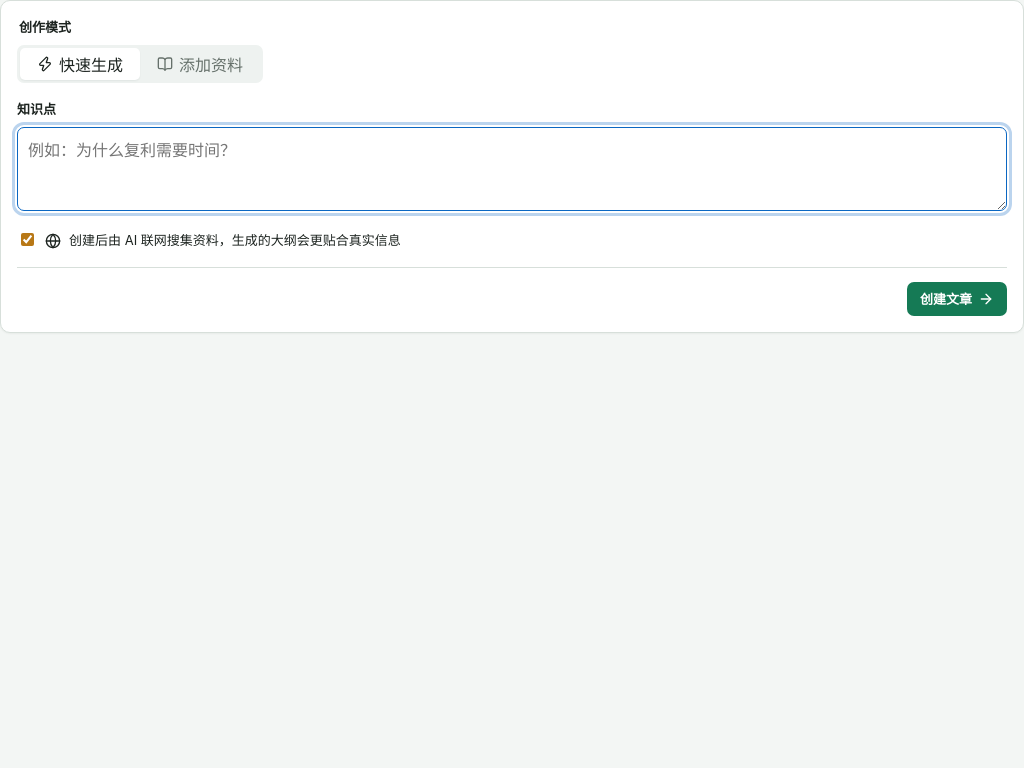
Test case: NewArticleForm › does not create the article when source mode is incomplete
Click the button "添加资料" at (200, 64), box [140, 48, 260, 80]
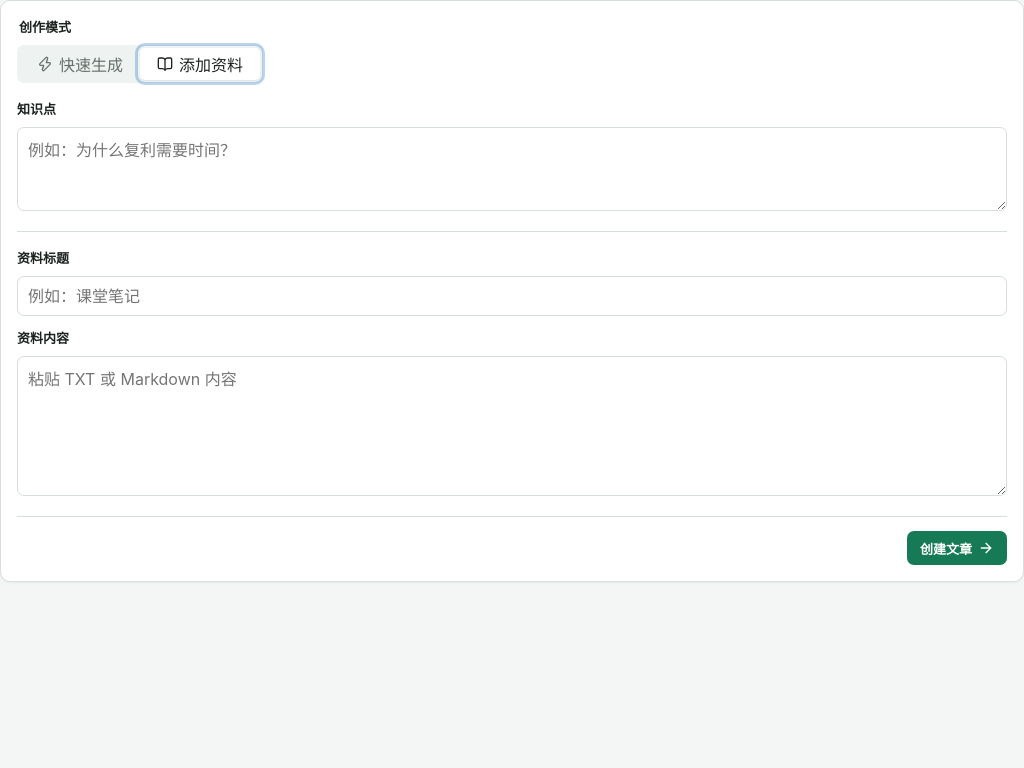
Type "复利" into the text box labelled "知识点" at (512, 169), box [17, 127, 1007, 211]
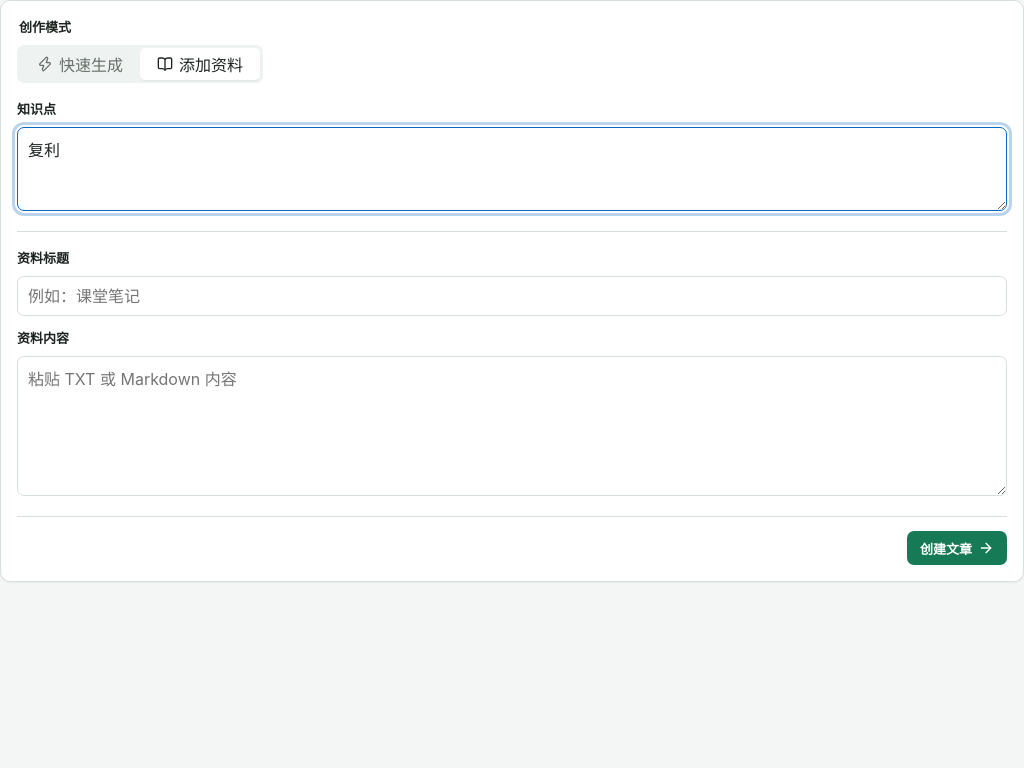
Type "课堂笔记" into the field labelled "资料标题" at (512, 296), box [17, 276, 1007, 316]
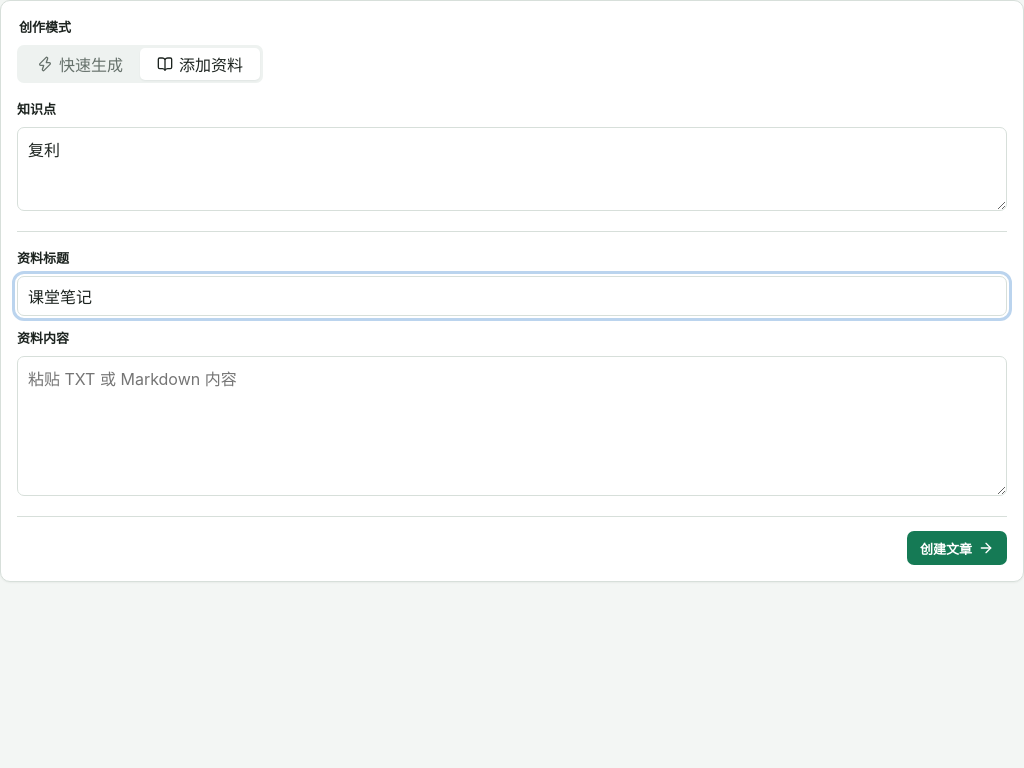
Click the button "创建文章" at (957, 548), box [907, 531, 1007, 565]
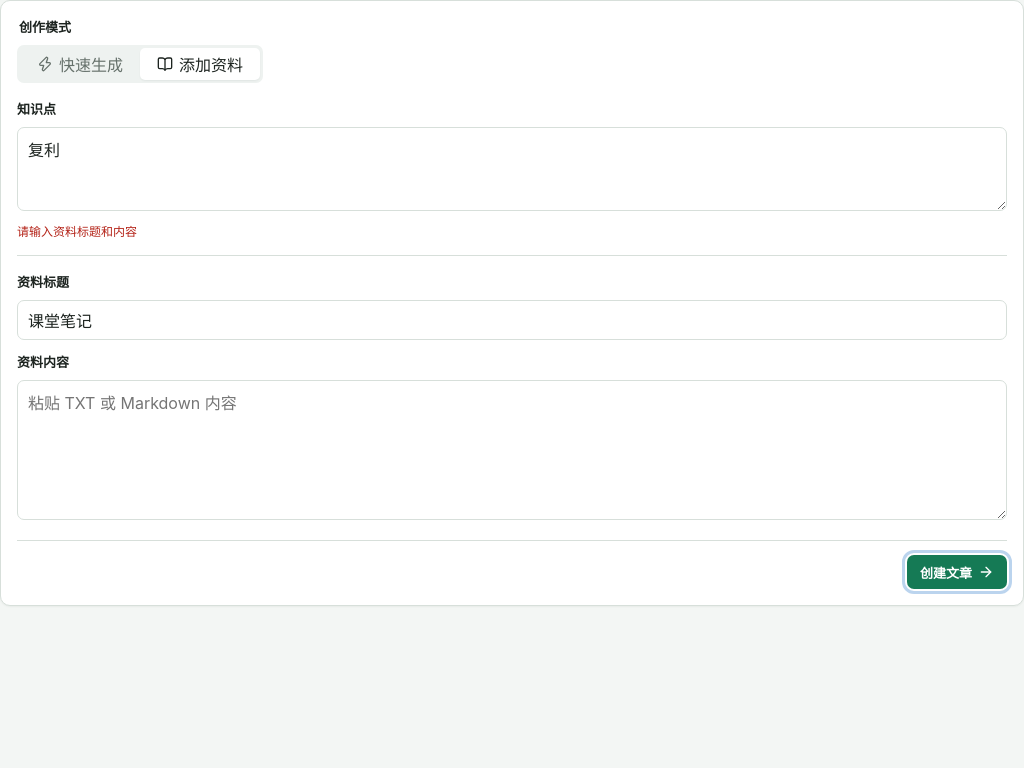
Check: the text "请输入资料标题和内容" is shown, box [17, 224, 137, 239]
